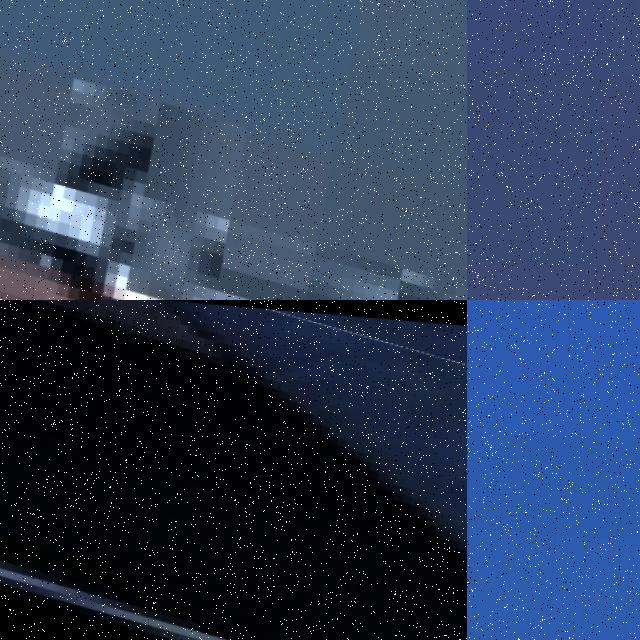drone: (0, 300, 467, 640), (0, 0, 467, 300)
